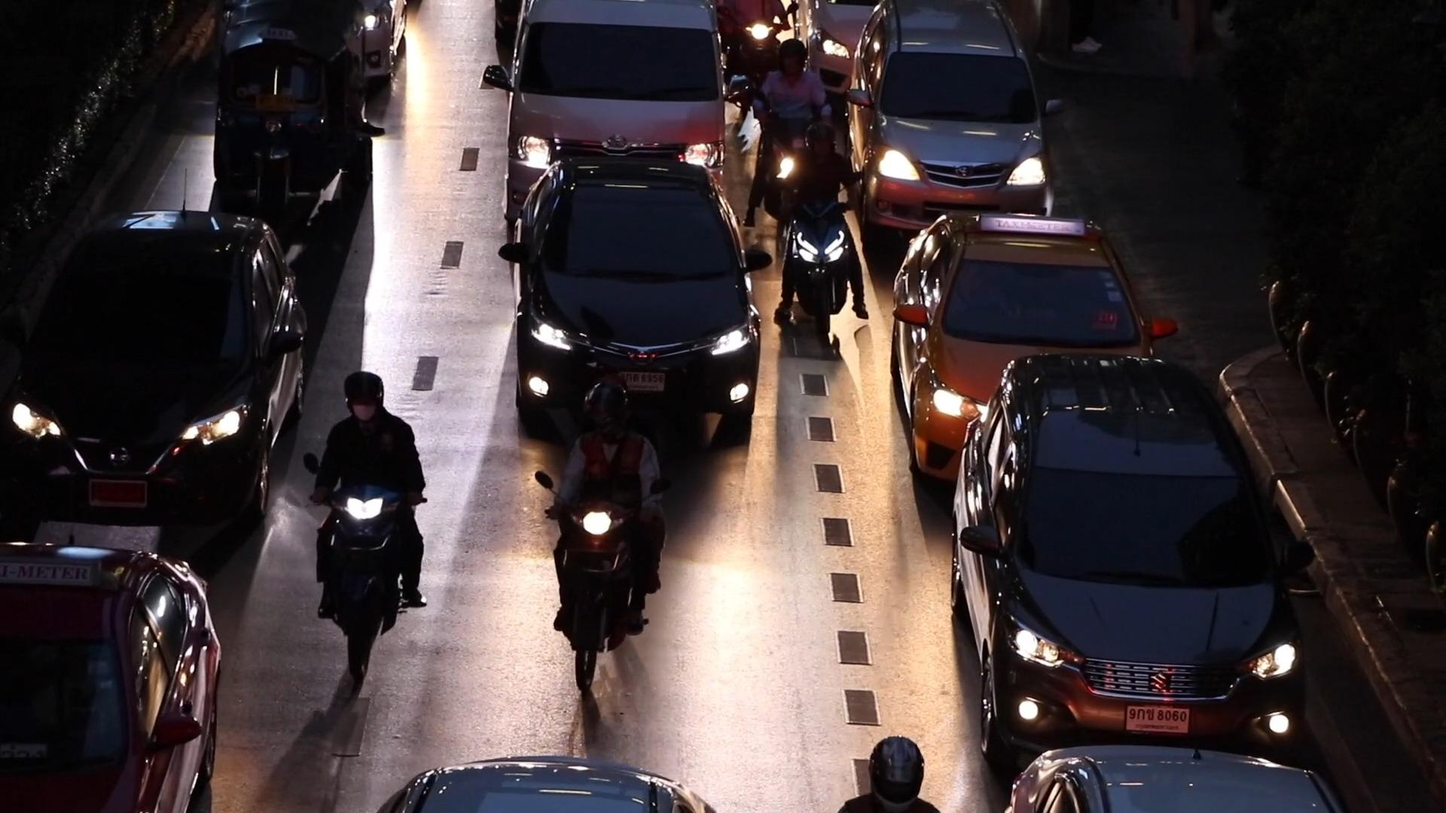driver: (535, 379, 673, 690), (303, 370, 429, 678), (774, 121, 869, 334), (717, 0, 799, 111)
helmet: (868, 735, 925, 813), (583, 380, 629, 437), (343, 371, 384, 424), (804, 121, 837, 161), (778, 38, 808, 77)
